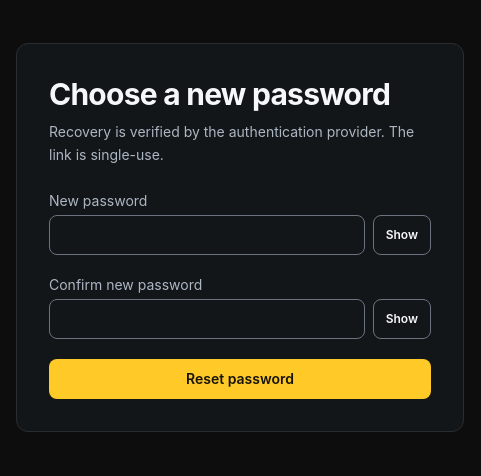
Test: ResetPasswordForm › does not submit a short password
Type "short" into the password field labelled "New password".
click(207, 234); type("short")  # box [49,214,365,254]
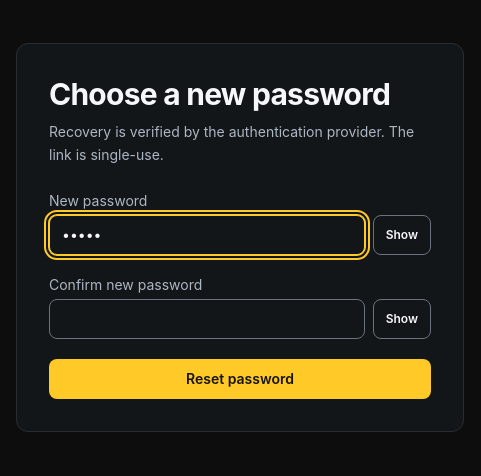
Type "short" into the password field labelled "Confirm new password".
click(207, 318); type("short")  # box [49,298,365,338]
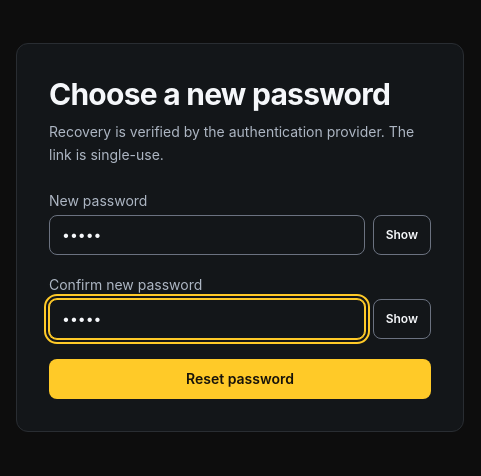
Click the button "Reset password".
click(240, 378)  # box [49,358,431,398]
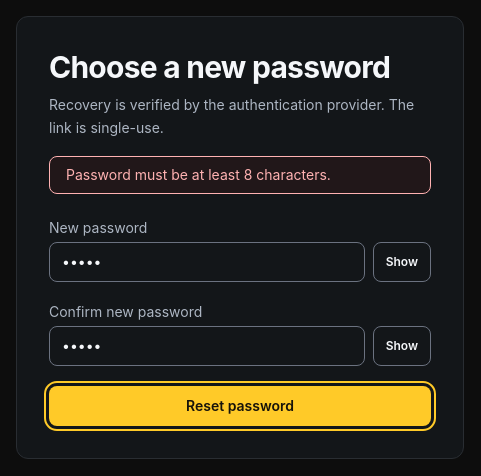
Expected: the message reads "Password must be at least 8 characters.", [66,166,331,182]
